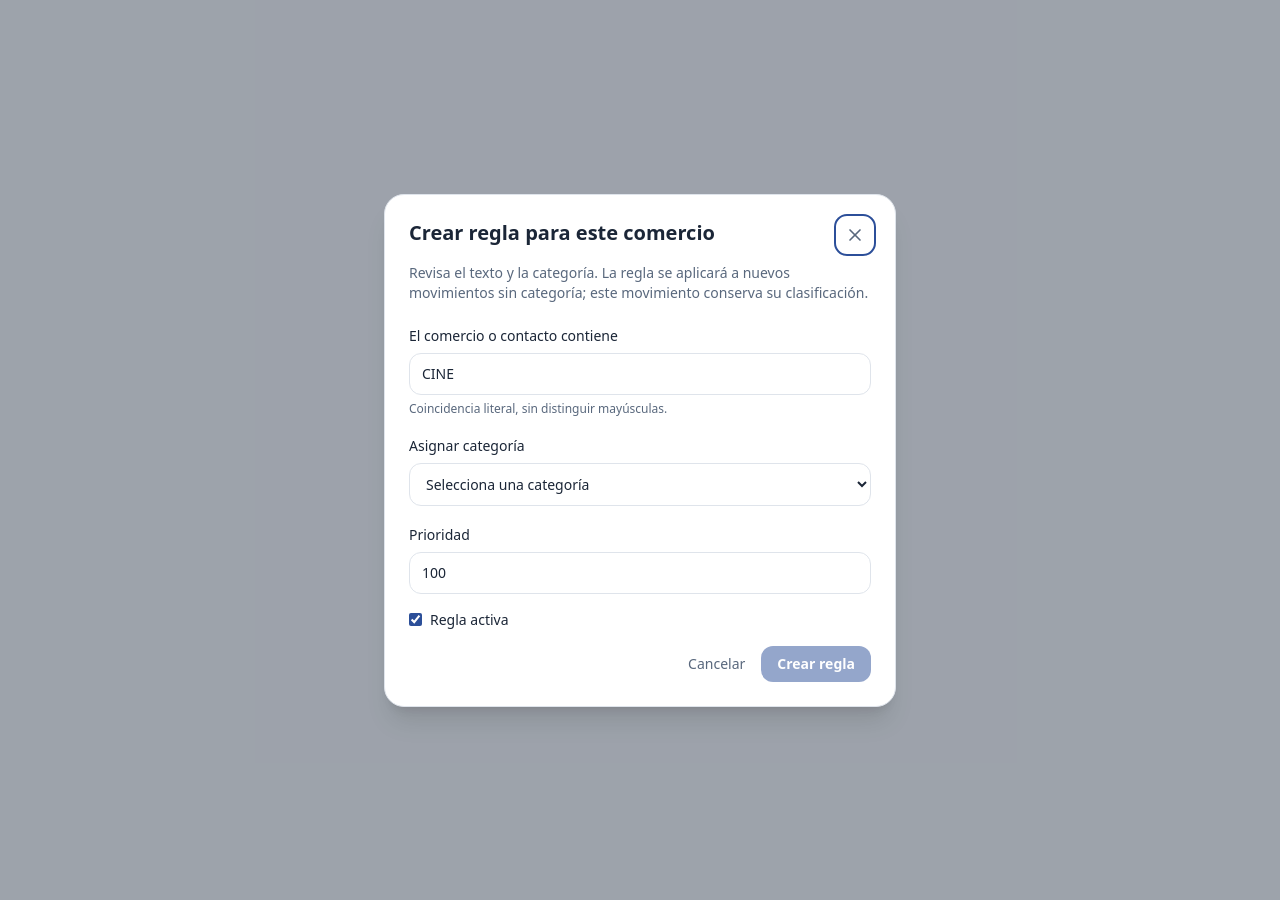
requires an active category and preserves inputs when saving fails
The image size is (1280, 900).
Expected: the button "Crear regla" is disabled, [761,646,871,682]
Select "Ocio" in the dropdown labelled "Asignar categoría". click: (640, 484)
box: [409,462,871,506]
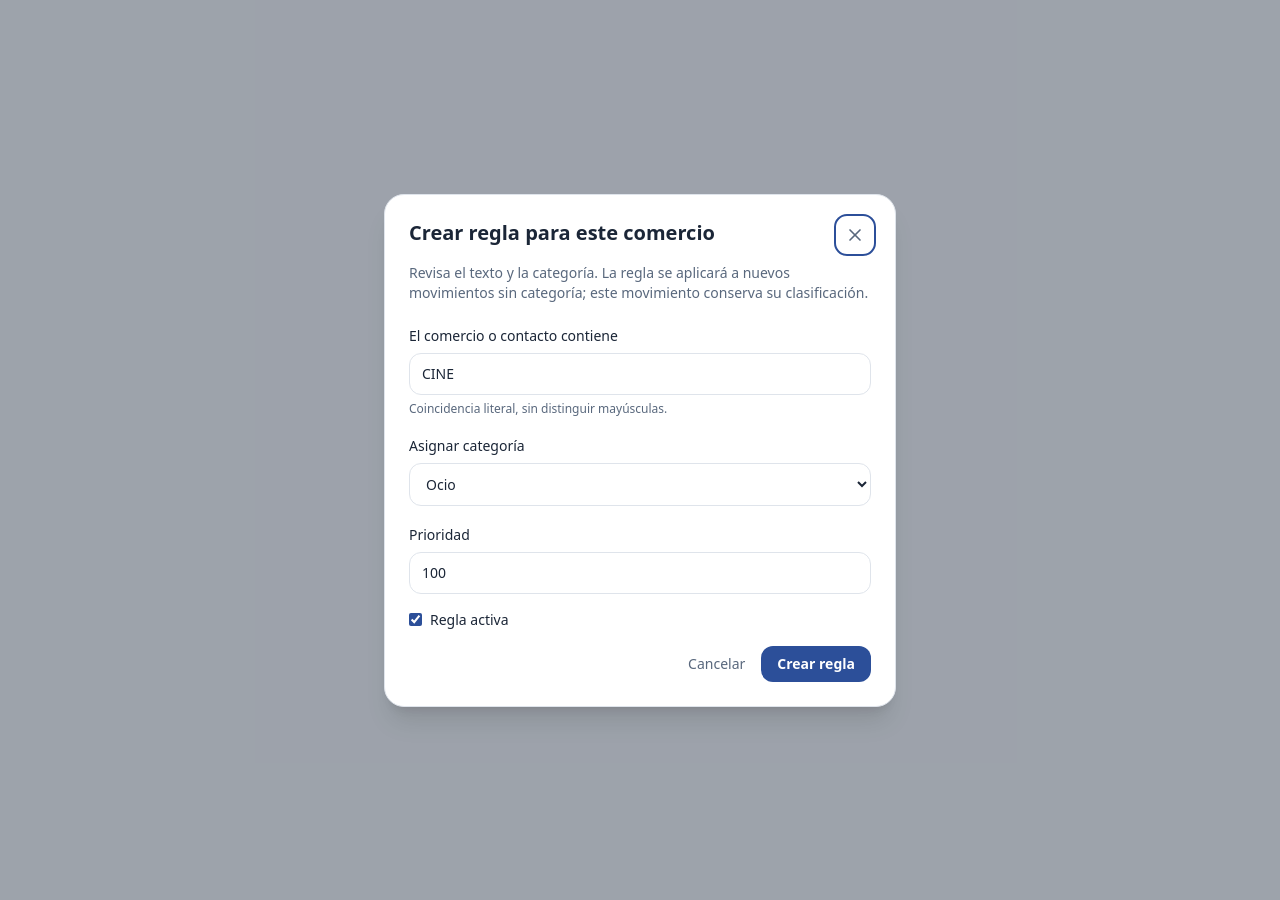
Click the button "Crear regla". click: (816, 664)
box: [761,646,871,682]
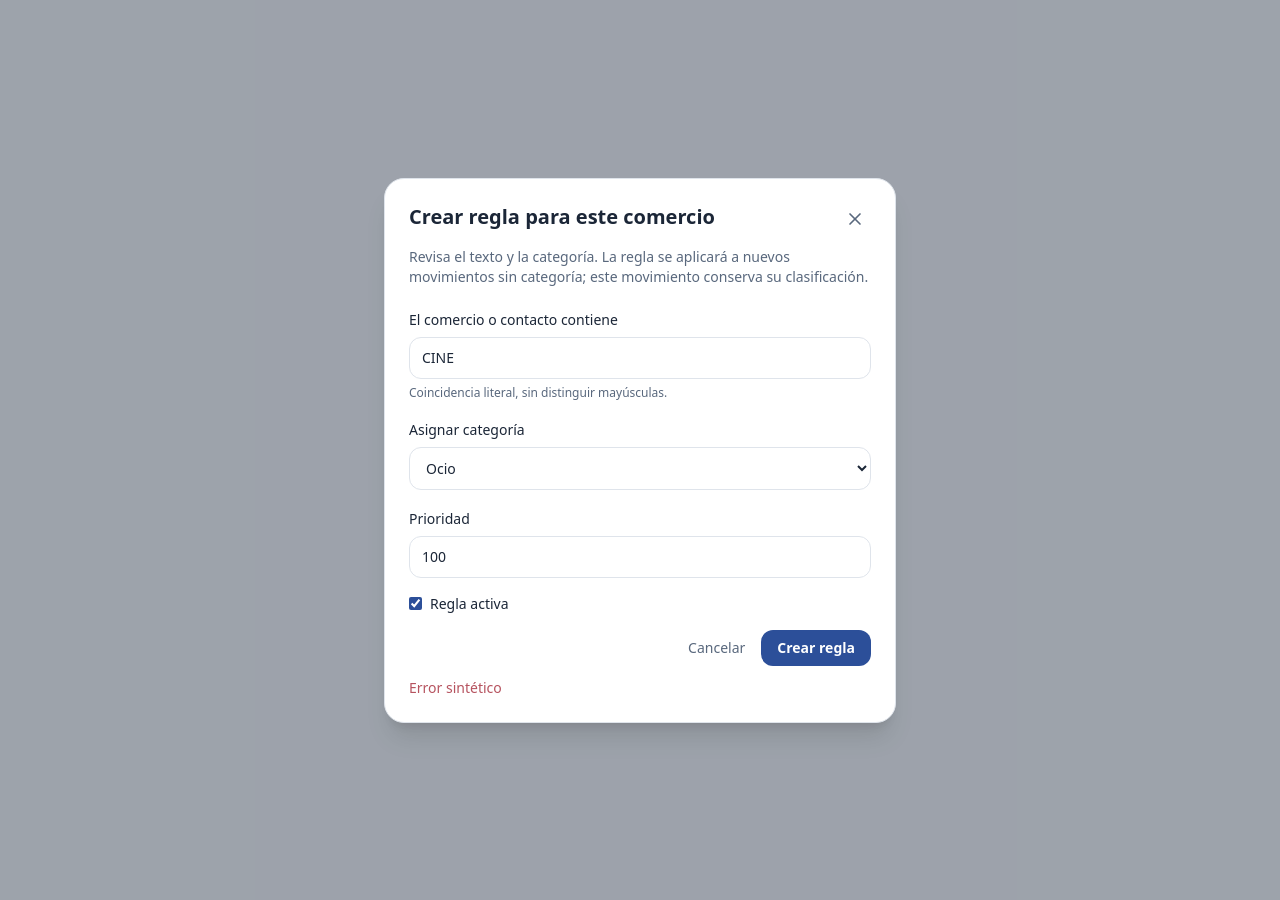
Expected: the field labelled "El comercio o contacto contiene" holds "CINE", [409,336,871,378]
Result: the message reads "Error sintético" at [409,678,502,696]
